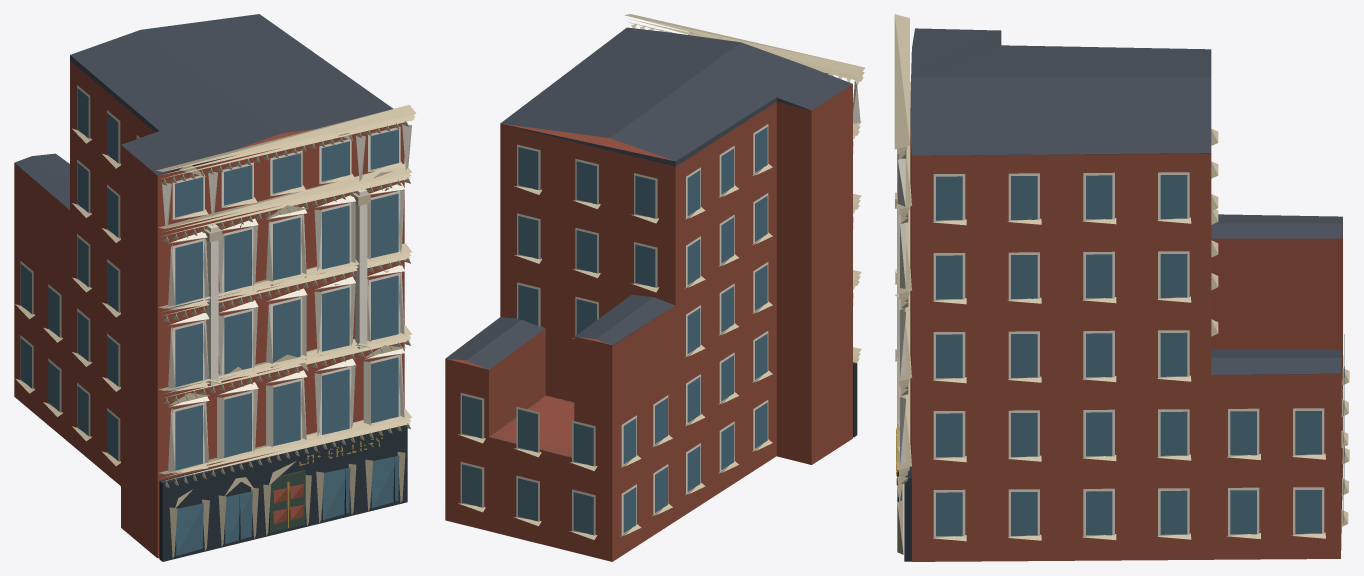
The model's file is hemp-gallery.lod1.glb.
3 renders of one model, left to right at view 1: azimuth 30°, elevation 25°; view 2: azimuth 150°, elevation 25°; view 3: azimuth 270°, elevation 25°, orthographic. The views are drawn at different scales.
Parts seen in each view (by area): view 1: hemp-gallery; view 2: hemp-gallery; view 3: hemp-gallery.
Part boxes in pixels (x1,y1,x2,y2): hemp-gallery: [14, 14, 416, 561]; hemp-gallery: [445, 14, 865, 561]; hemp-gallery: [894, 14, 1349, 561].
Size of the model in its own units: 12.92 by 19.18 by 18.81.
